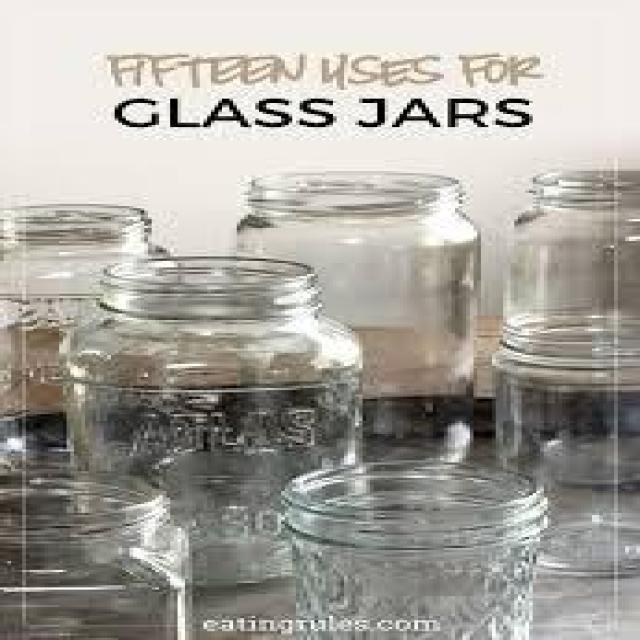Glass: (65, 256, 362, 588), (237, 170, 478, 475), (277, 460, 553, 640), (488, 310, 640, 577), (0, 478, 192, 640), (505, 166, 640, 316)
